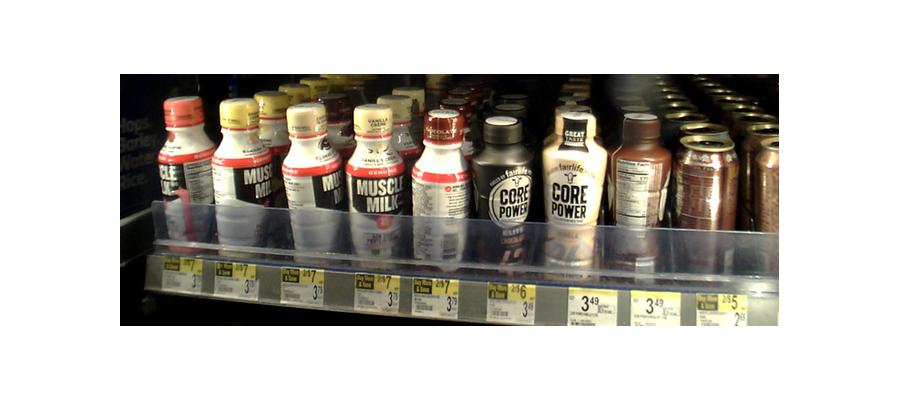bottle: (542, 111, 607, 275), (608, 112, 669, 278), (473, 116, 536, 271), (281, 105, 344, 260), (411, 108, 470, 272), (346, 108, 406, 263), (213, 100, 273, 254), (673, 131, 736, 275), (160, 94, 211, 250), (748, 131, 782, 279)
